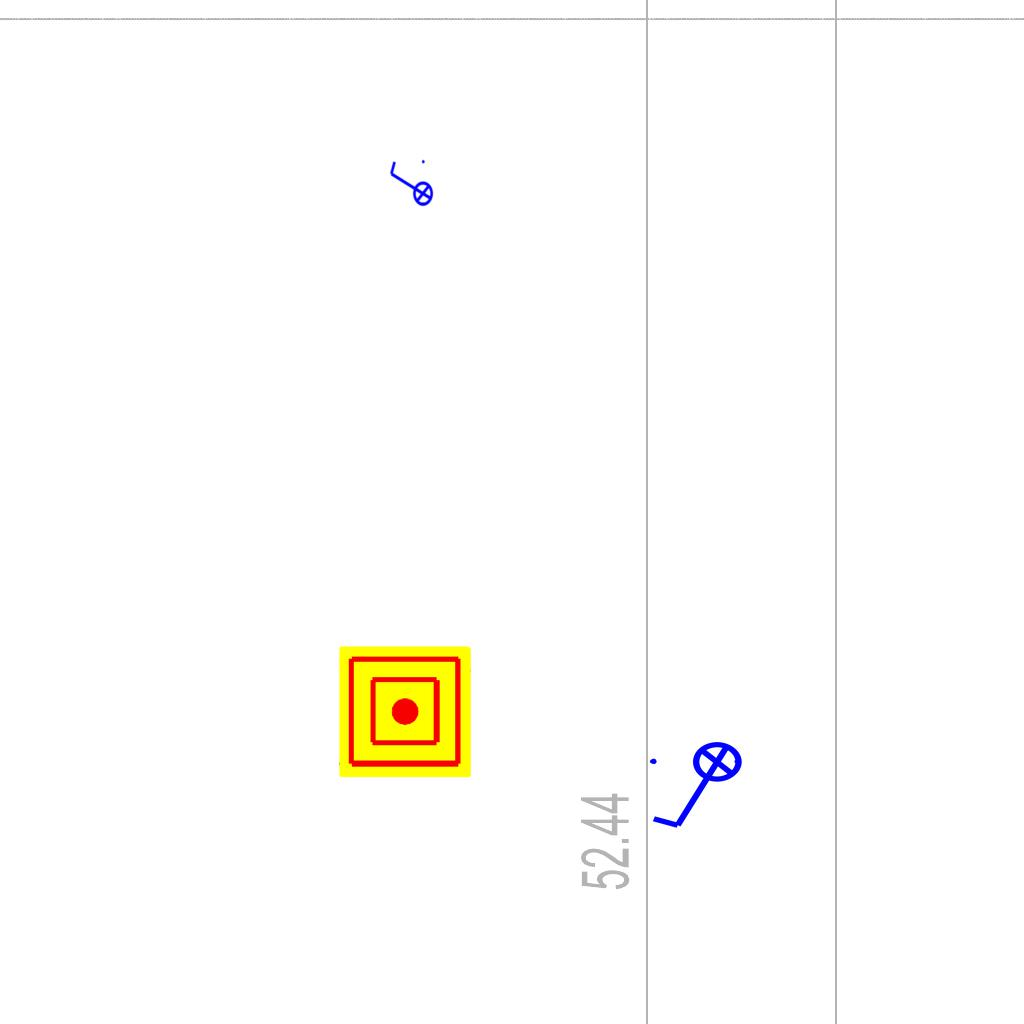Ausschalter_beleuchtet: (644, 740, 756, 836), (386, 157, 434, 213)
NAM-Nichtautomatischer_Melder: (339, 646, 471, 778)
